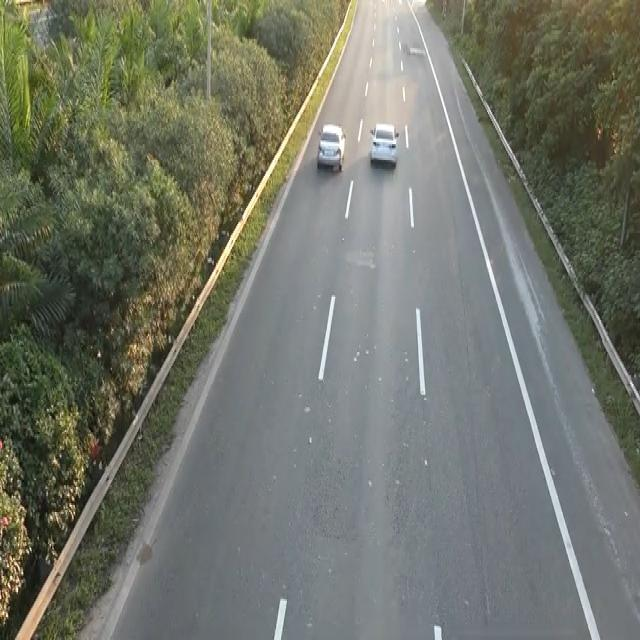bus: (316, 119, 346, 173), (368, 119, 400, 169)
